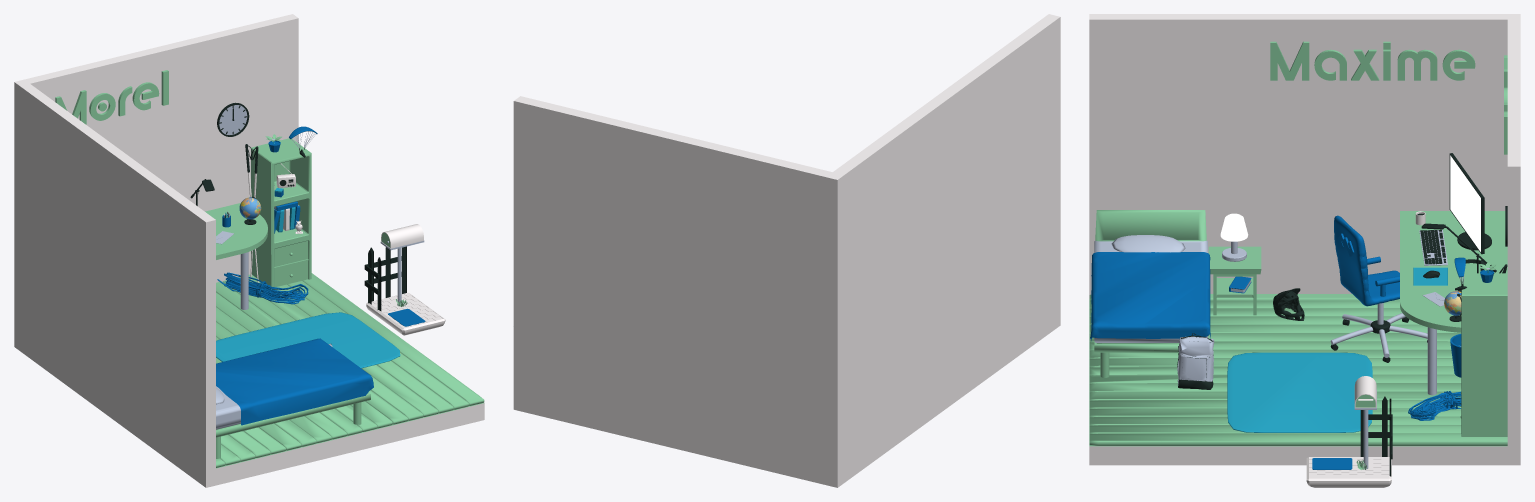
3 views of the same model, side by side, from view 1: azimuth 30°, elevation 25°; view 2: azimuth 150°, elevation 25°; view 3: azimuth 270°, elevation 25° (orthographic). The views are drawn at different scales.
Parts seen in each view (by area): view 1: room, bed, shelve, floormat, room-entry, table, name, rope, letter-box, clock, drawer; view 2: room; view 3: room, bed, floormat, shelve, table, chair, name, room-entry, night table, backpack, screen-video, letter-box (+6 smaller).
Part boxes in pixels (x1,y1,x2,y2): room: [14, 14, 484, 487]; bed: [216, 338, 373, 458]; shelve: [251, 138, 311, 286]; floormat: [216, 312, 400, 368]; room-entry: [364, 246, 445, 335]; table: [205, 203, 267, 309]; name: [55, 70, 168, 124]; rope: [217, 272, 308, 304]; letter-box: [380, 224, 424, 305]; clock: [217, 102, 249, 136]; drawer: [274, 260, 307, 287]; room: [513, 14, 1060, 487]; room: [1089, 14, 1520, 465]; bed: [1090, 210, 1210, 377]; floormat: [1227, 352, 1372, 432]; shelve: [1460, 273, 1507, 436]; table: [1400, 211, 1507, 395]; chair: [1330, 215, 1427, 362]; name: [1270, 41, 1507, 154]; room-entry: [1306, 396, 1392, 487]; night table: [1208, 246, 1261, 315]; backpack: [1177, 333, 1214, 389]; screen-video: [1450, 155, 1480, 251]; letter-box: [1354, 376, 1376, 469].
Bounding box in the file's own units: 6.72 × 5.06 × 6.62.
Materials: 27 (1 with a texture image).
